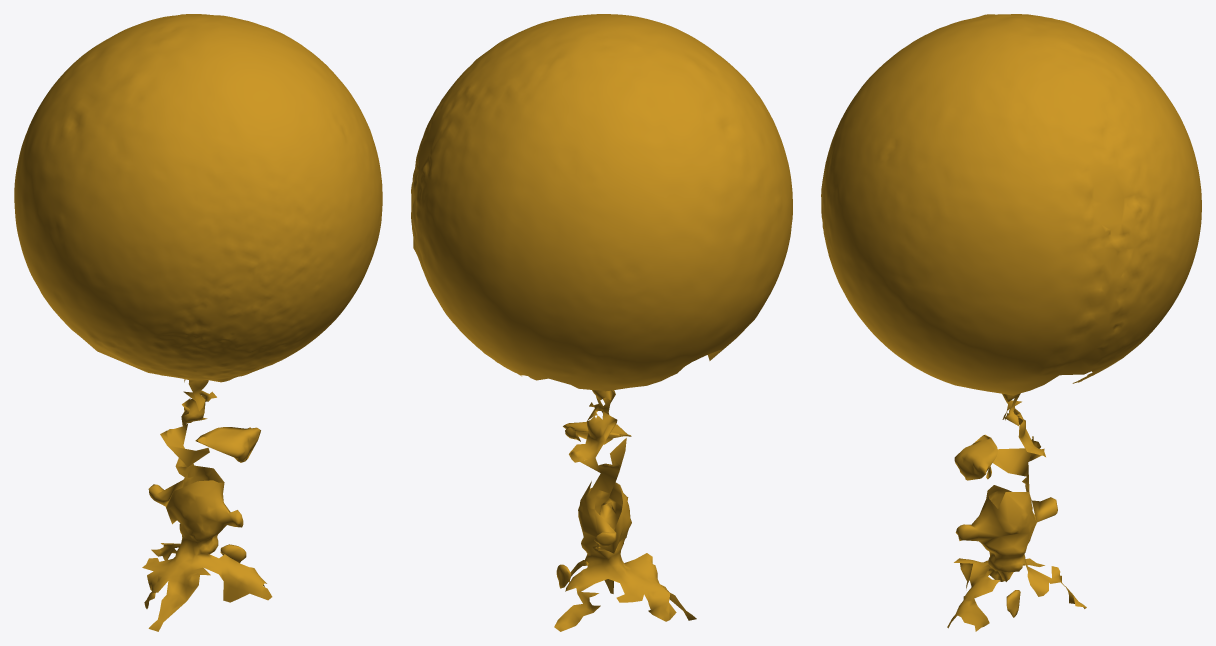
The model's file is Gridtest_1_0_0.000001.obj.
The picture shows the model from 3 angles, left to right: view 1: azimuth 30°, elevation 25°; view 2: azimuth 150°, elevation 25°; view 3: azimuth 270°, elevation 25°; orthographic projection. The views are drawn at different scales.
Parts seen in each view (by area): view 1: ./Gridtest_1_0_0.000001; view 2: ./Gridtest_1_0_0.000001; view 3: ./Gridtest_1_0_0.000001.
Boxes of the visible parts, left/top/right/bottom form: ./Gridtest_1_0_0.000001: left=14, top=14, right=382, bottom=631; ./Gridtest_1_0_0.000001: left=411, top=14, right=792, bottom=631; ./Gridtest_1_0_0.000001: left=821, top=14, right=1201, bottom=631.
Size of the model in its own units: 298 by 511 by 298.
